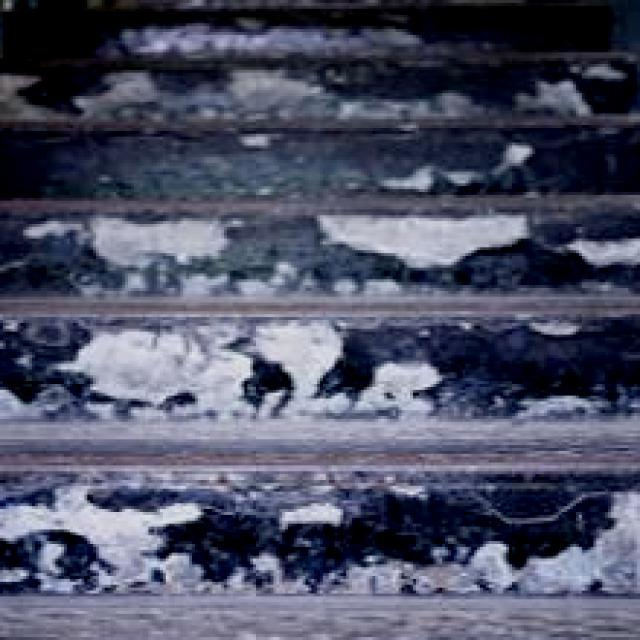upstair: (53, 184, 551, 528)
